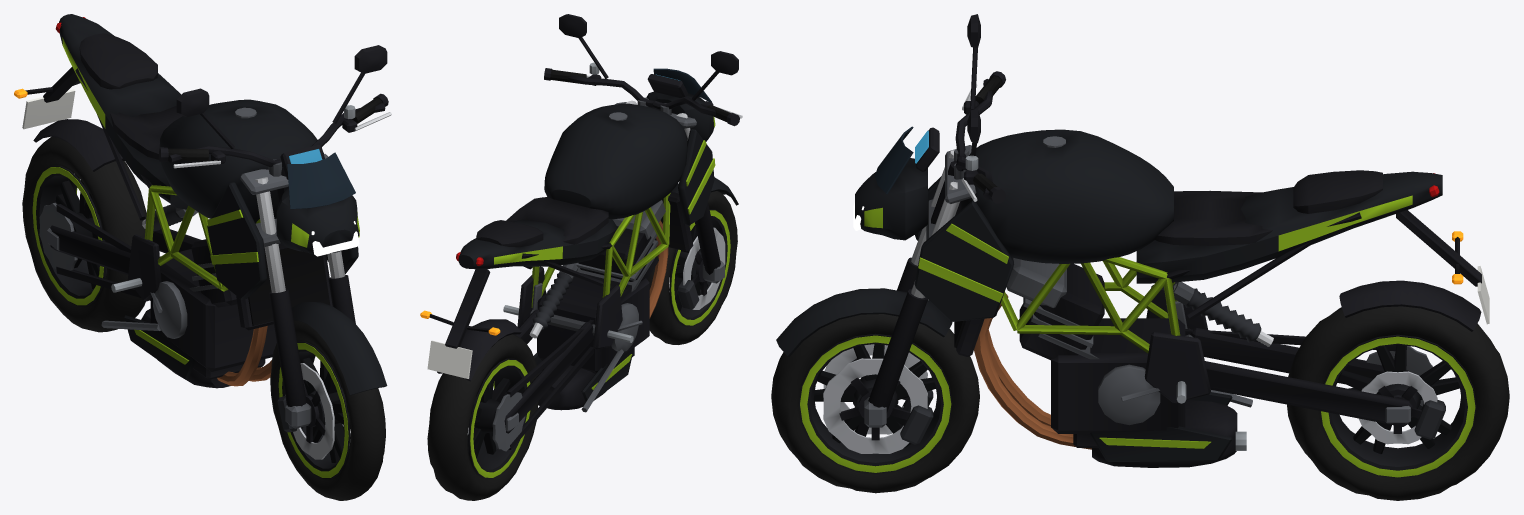
Rendered from naked.glb.
3 views of the same model, side by side, from view 1: azimuth 30°, elevation 25°; view 2: azimuth 150°, elevation 25°; view 3: azimuth 270°, elevation 25° (orthographic). The views are drawn at different scales.
Parts seen in each view (by area): view 1: body, wheel_rear, wheel_front, handlebar, fork_left, disc_front, fork_right, headlight; view 2: body, wheel_rear, wheel_front, handlebar, fork_left, disc_front; view 3: body, wheel_rear, wheel_front, disc_front, fork_right, handlebar, disc_rear, fork_left.
Part boxes in pixels (x1=…): body: x1=14, y1=14, x2=387, y2=395; wheel_rear: x1=22, y1=137, x2=152, y2=332; wheel_front: x1=270, y1=320, x2=385, y2=500; handlebar: x1=159, y1=45, x2=391, y2=176; fork_left: x1=255, y1=177, x2=311, y2=432; disc_front: x1=285, y1=363, x2=350, y2=459; fork_right: x1=327, y1=251, x2=355, y2=323; headlight: x1=311, y1=221, x2=359, y2=256; body: x1=420, y1=68, x2=738, y2=449; wheel_rear: x1=427, y1=334, x2=538, y2=500; wheel_front: x1=647, y1=191, x2=737, y2=344; handlebar: x1=544, y1=14, x2=742, y2=126; fork_left: x1=676, y1=113, x2=724, y2=309; disc_front: x1=669, y1=227, x2=725, y2=309; body: x1=776, y1=126, x2=1489, y2=467; wheel_rear: x1=1287, y1=306, x2=1509, y2=500; wheel_front: x1=771, y1=314, x2=979, y2=493; disc_front: x1=823, y1=344, x2=927, y2=453; fork_right: x1=864, y1=181, x2=959, y2=444; handlebar: x1=954, y1=14, x2=1005, y2=203; disc_rear: x1=1359, y1=371, x2=1437, y2=444; fork_left: x1=897, y1=150, x2=954, y2=411.
Bounding box in the file's own units: 0.7671 × 1.28 × 1.98.
